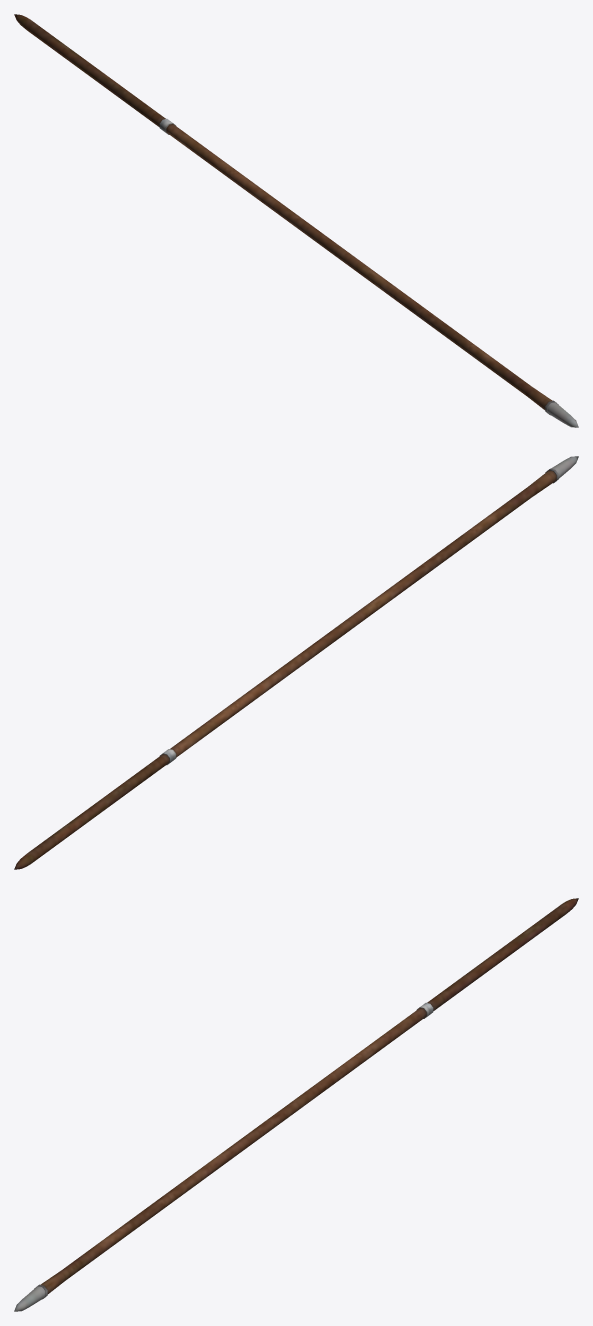
File: javelin_particle.glb
The picture shows the model from 3 angles, top to bottom: view 1: azimuth 30°, elevation 25°; view 2: azimuth 150°, elevation 25°; view 3: azimuth 330°, elevation 25°; orthographic projection.
Parts seen in each view (by area): view 1: Javelin; view 2: Javelin; view 3: Javelin.
Boxes of the visible parts, x1,y1,x2,y2 form: Javelin: (14,14,578,427); Javelin: (14,456,578,869); Javelin: (14,898,578,1311).
Size of the model in its own units: 0.0179 by 0.0179 by 1.47.
1 material, 1 textured.
